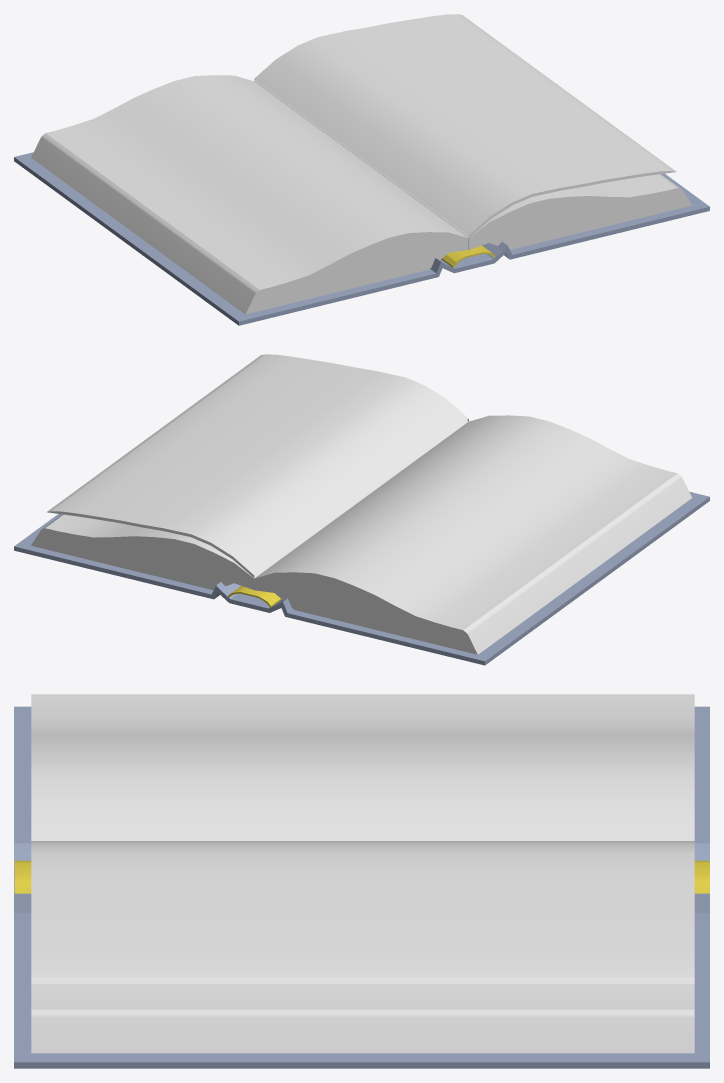
The model's file is book.fbx.
The picture shows the model from 3 angles, top to bottom: view 1: azimuth 30°, elevation 25°; view 2: azimuth 150°, elevation 25°; view 3: azimuth 270°, elevation 25°; orthographic projection. The views are drawn at different scales.
Visible parts, largest first — view 1: pCube3; view 2: pCube3; view 3: pCube3.
Part boxes in pixels (x1,y1,x2,y2): pCube3: (14, 14, 709, 325); pCube3: (14, 354, 709, 665); pCube3: (14, 694, 709, 1068).
Bounding box in the file's own units: 23.46 × 2.66 × 19.4.
